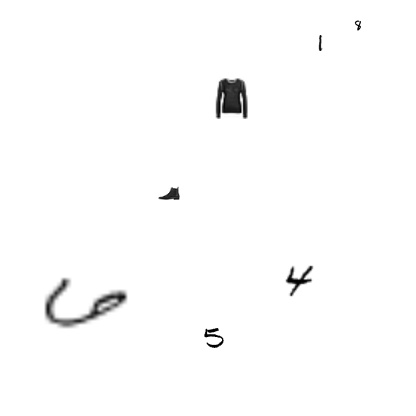1: (309, 32, 331, 54)
4: (277, 257, 319, 299)
5: (199, 323, 227, 351)
6: (26, 247, 138, 359)
8: (351, 18, 365, 32)
Ankle_boot: (158, 182, 180, 204)
Pullover: (210, 77, 252, 119)
